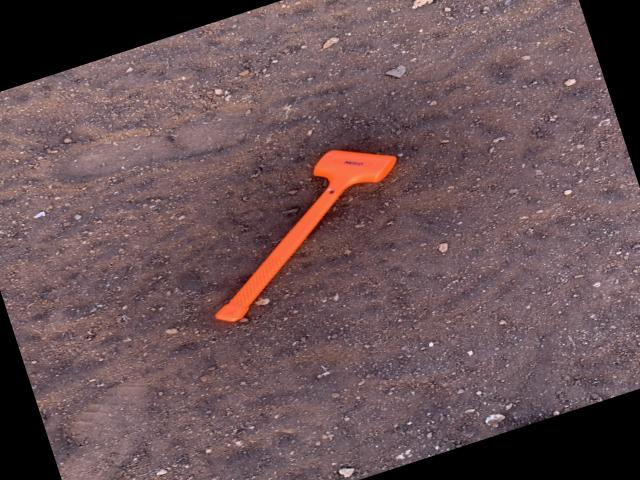hammer: (176, 130, 431, 326)
